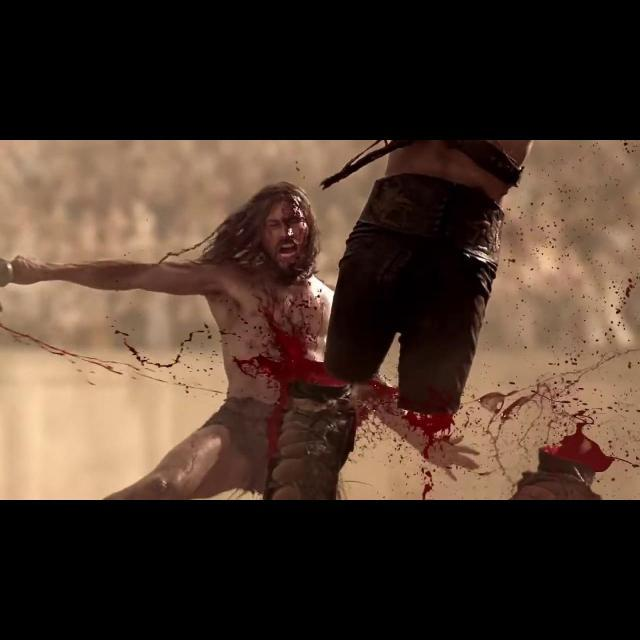blood: (0, 276, 640, 500)
